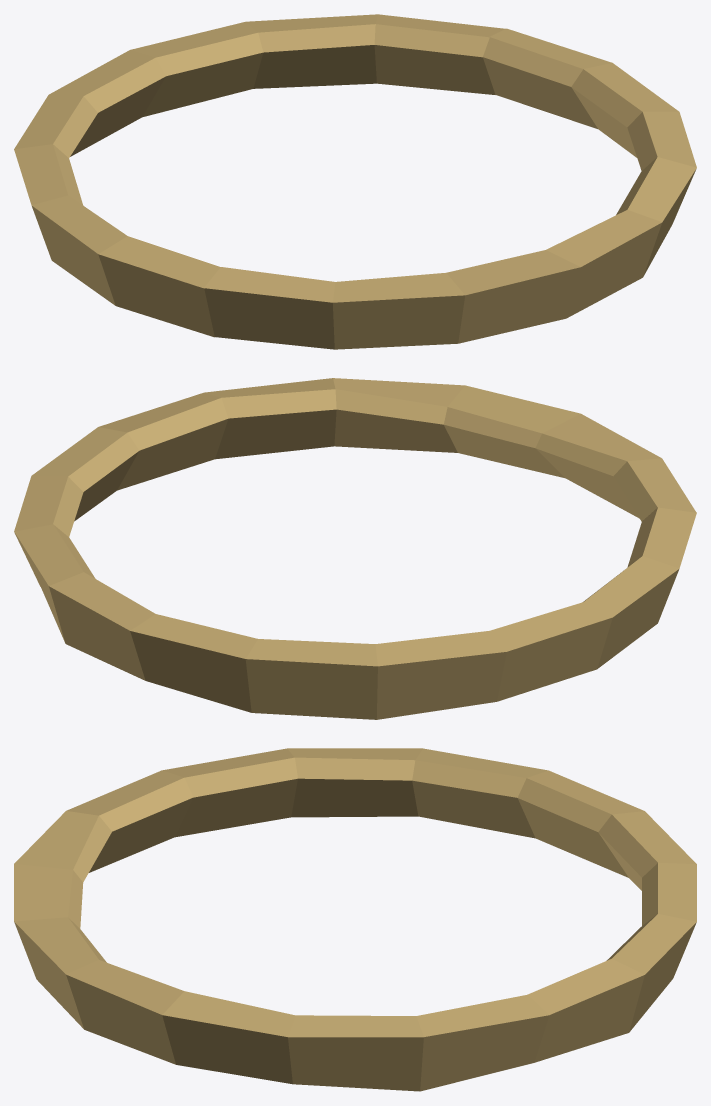
Rendered from PitsaReunat16_Collider.fbx.
The picture shows the model from 3 angles, top to bottom: view 1: azimuth 30°, elevation 25°; view 2: azimuth 150°, elevation 25°; view 3: azimuth 270°, elevation 25°; orthographic projection.
Visible parts, largest first — view 1: CollisionReuna3, CollisionReuna3.001, CollisionReuna4.001, ColliderReuna7, ColliderReuna7.001, ColliderReuna2, ColliderReuna8.001, CollisionReuna6, CollisionReuna4, ColliderReuna8, ColliderReuna2.001, CollisionReuna6.001 (+4 smaller); view 2: ColliderReuna8, ColliderReuna1.002, ColliderReuna8.001, CollisionReuna4, CollisionReuna5.001, ColliderReuna1.001, CollisionReuna4.001, CollisionReuna5, ColliderReuna7, CollisionReuna3, ColliderReuna2.001, CollisionReuna6.001 (+4 smaller); view 3: CollisionReuna6.001, CollisionReuna5, CollisionReuna6, ColliderReuna2.001, ColliderReuna1.001, ColliderReuna2, ColliderReuna7.001, CollisionReuna5.001, ColliderReuna1.002, CollisionReuna3.001, CollisionReuna4, ColliderReuna7 (+4 smaller).
Boxes of the visible parts, x1,y1,x2,y2 form: CollisionReuna3: (333, 273, 465, 349); CollisionReuna3.001: (204, 267, 335, 349); CollisionReuna4.001: (446, 250, 580, 343); ColliderReuna7: (246, 14, 377, 88); ColliderReuna7.001: (374, 14, 505, 94); ColliderReuna2: (98, 236, 220, 337); ColliderReuna8.001: (130, 22, 263, 117); CollisionReuna6: (483, 28, 612, 128); CollisionReuna4: (546, 210, 662, 318); ColliderReuna8: (49, 50, 165, 156); ColliderReuna2.001: (31, 195, 126, 305); CollisionReuna6.001: (571, 63, 678, 157); ColliderReuna8: (245, 639, 377, 719); ColliderReuna1.002: (375, 631, 506, 719); ColliderReuna8.001: (130, 614, 257, 712); CollisionReuna4: (333, 378, 464, 452); CollisionReuna5.001: (205, 378, 336, 459); ColliderReuna1.001: (490, 602, 612, 701); CollisionReuna4.001: (443, 385, 580, 477); CollisionReuna5: (99, 392, 228, 490); ColliderReuna7: (49, 572, 155, 680); CollisionReuna3: (535, 414, 661, 518); ColliderReuna2.001: (583, 556, 679, 668); CollisionReuna6.001: (31, 427, 139, 521); CollisionReuna6.001: (288, 1015, 423, 1091); CollisionReuna5: (162, 991, 295, 1084); CollisionReuna6: (416, 994, 549, 1091); ColliderReuna2.001: (287, 748, 422, 817); ColliderReuna1.001: (412, 748, 548, 838); ColliderReuna2: (163, 748, 297, 837); ColliderReuna7.001: (527, 958, 644, 1062); CollisionReuna5.001: (66, 960, 184, 1064); ColliderReuna1.002: (517, 770, 644, 877); CollisionReuna3.001: (66, 770, 193, 872); CollisionReuna4: (14, 917, 106, 1028); ColliderReuna7: (606, 913, 696, 1032).
Size of the model in its own units: 193 by 22.66 by 193.
